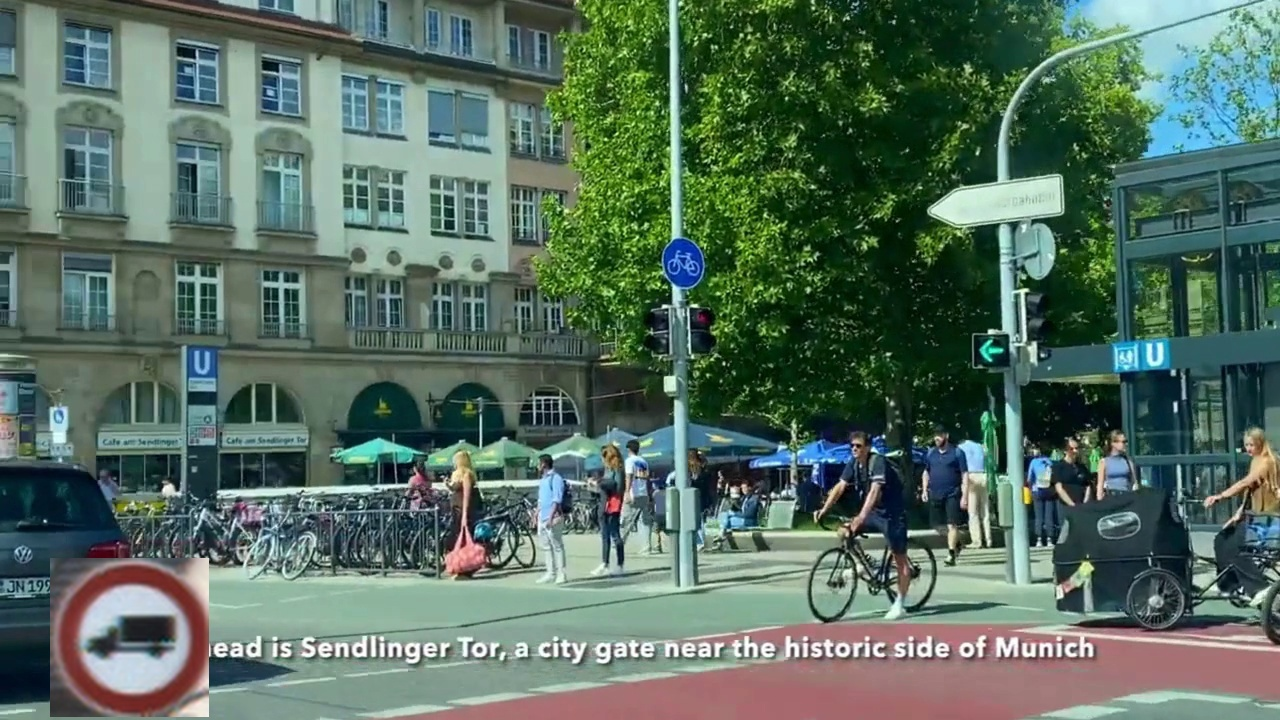Veh >3.5t prohib: (50, 558, 209, 717)
